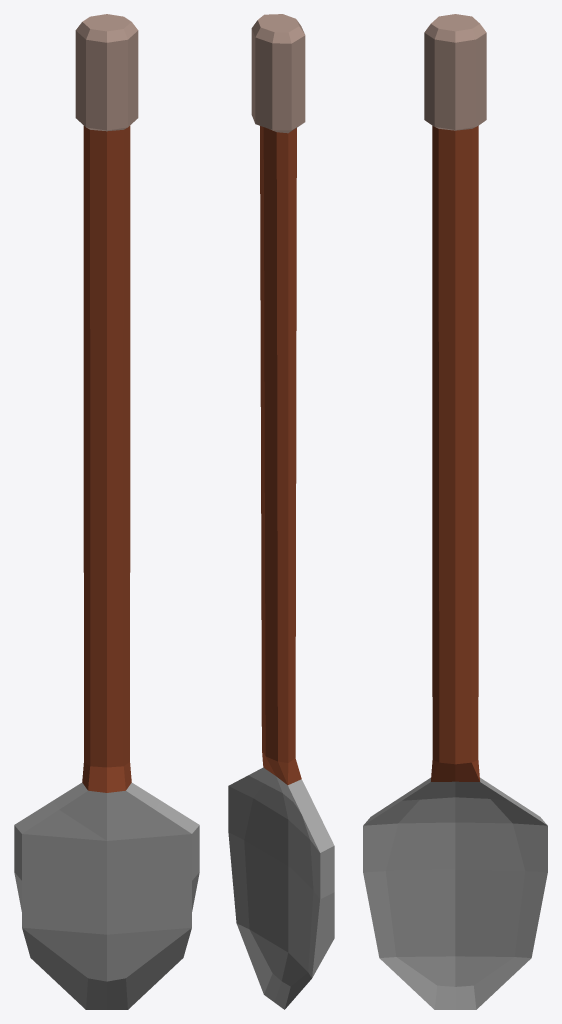
File: shovel.glb
The picture shows the model from 3 angles, left to right: view 1: azimuth 90°, elevation 25°; view 2: azimuth 210°, elevation 25°; view 3: azimuth 270°, elevation 25°; orthographic projection.
Parts seen in each view (by area): view 1: shovel; view 2: shovel; view 3: shovel.
Part boxes in pixels (x1,y1,x2,y2): shovel: (14, 14, 199, 1009); shovel: (228, 14, 334, 1009); shovel: (363, 14, 547, 1009).
Size of the model in its own units: 0.2752 by 5.59 by 0.9504.
1 material, 1 textured.
